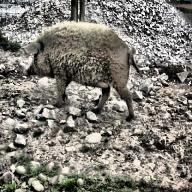boar: (21, 8, 144, 122)
